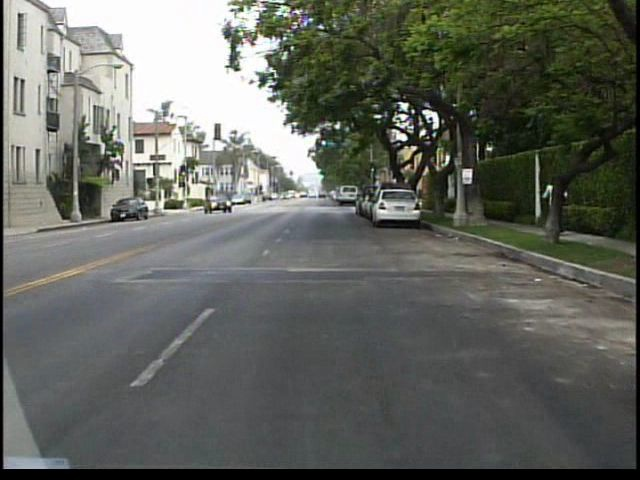person: (535, 168, 570, 246)
